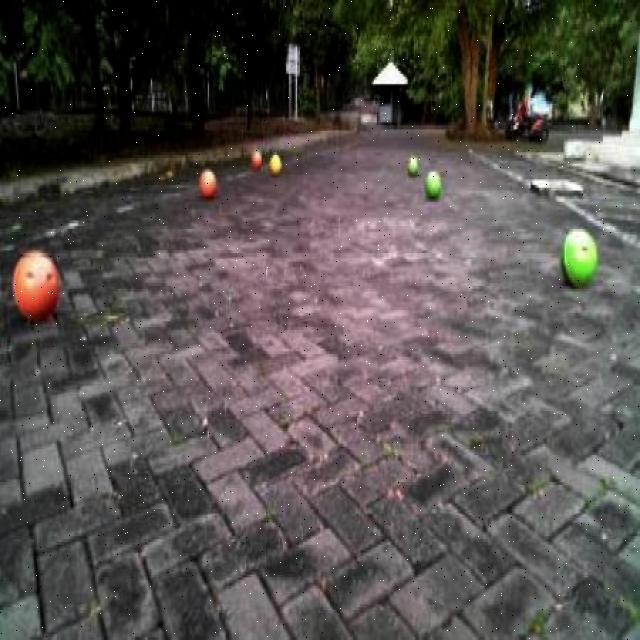buoy: (8, 240, 63, 329), (552, 215, 599, 294), (195, 156, 217, 201), (421, 160, 444, 203), (267, 154, 283, 176)
